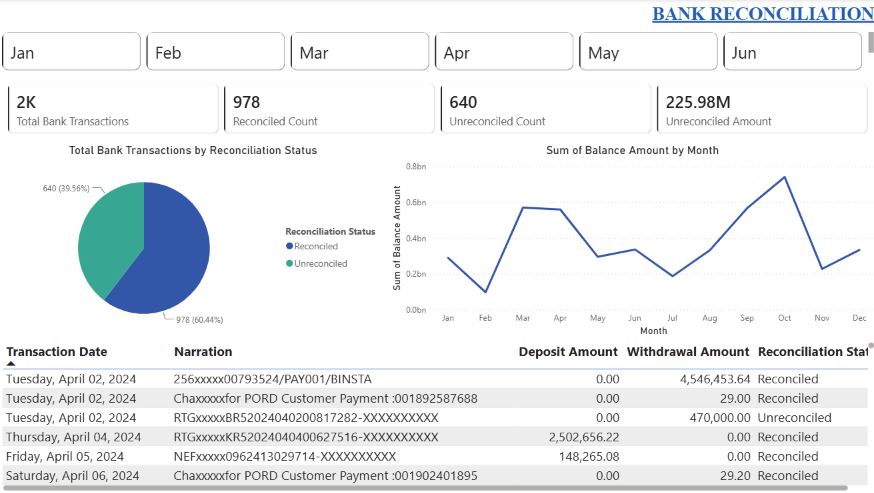

This screenshot's page, from the dashboard's own definition file:
{"tool":"powerbi","page":{"name":"Bank Reconciliation","canvas":[1280,720],"ordinal":2},"visuals":[{"type":"cardVisual","fields":{"Data":["_Measures.Total Bank Transactions","_Measures.Reconciled Count","_Measures.Unreconciled Count","_Measures.Unreconciled Amount"]},"box":[0,109,1279.5,99.9],"z":0},{"type":"pieChart","fields":{"Category":["public fact_bank_recon.reconciliation_status"],"Y":["_Measures.Total Bank Transactions"]},"box":[0,209,566.3,284.7],"z":1000},{"type":"lineChart","fields":{"Category":["Date_Table.Month"],"Y":["Sum(public fact_bank_recon.balance_amount)"]},"box":[566.3,209,713.2,284.7],"z":2000},{"type":"tableEx","fields":{"Values":["public fact_bank_recon.transaction_date","public fact_bank_recon.narration","public fact_bank_recon.deposit_amount","public fact_bank_recon.withdrawal_amount","public fact_bank_recon.reconciliation_status"]},"box":[0,493.6,1279.5,227.3],"z":3000},{"type":"textbox","box":[0,0,1279.6,45.7],"z":4000},{"type":"advancedSlicerVisual","fields":{"Values":["Date_Table.Month"]},"box":[0,42.4,1279.5,66.6],"z":5001}]}

Visuals, with their boxes in screenshot pixels (x1, y1, x2, y2), scaled from the page's 1280x720 canvas onto the 874x493 screenshot:
cardVisual - _Measures.Total Bank Transactions x _Measures.Reconciled Count: detection(0, 75, 873, 143)
pieChart - public fact_bank_recon.reconciliation_status x _Measures.Total Bank Transactions: detection(0, 143, 387, 338)
lineChart - Date_Table.Month x Sum(public fact_bank_recon.balance_amount): detection(387, 143, 873, 338)
tableEx - public fact_bank_recon.transaction_date x public fact_bank_recon.narration: detection(0, 338, 873, 492)
textbox: detection(0, 0, 873, 31)
advancedSlicerVisual - Date_Table.Month: detection(0, 29, 873, 75)
